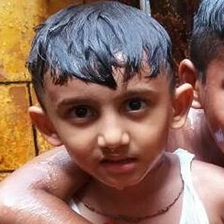no_mask: (42, 68, 169, 185)
